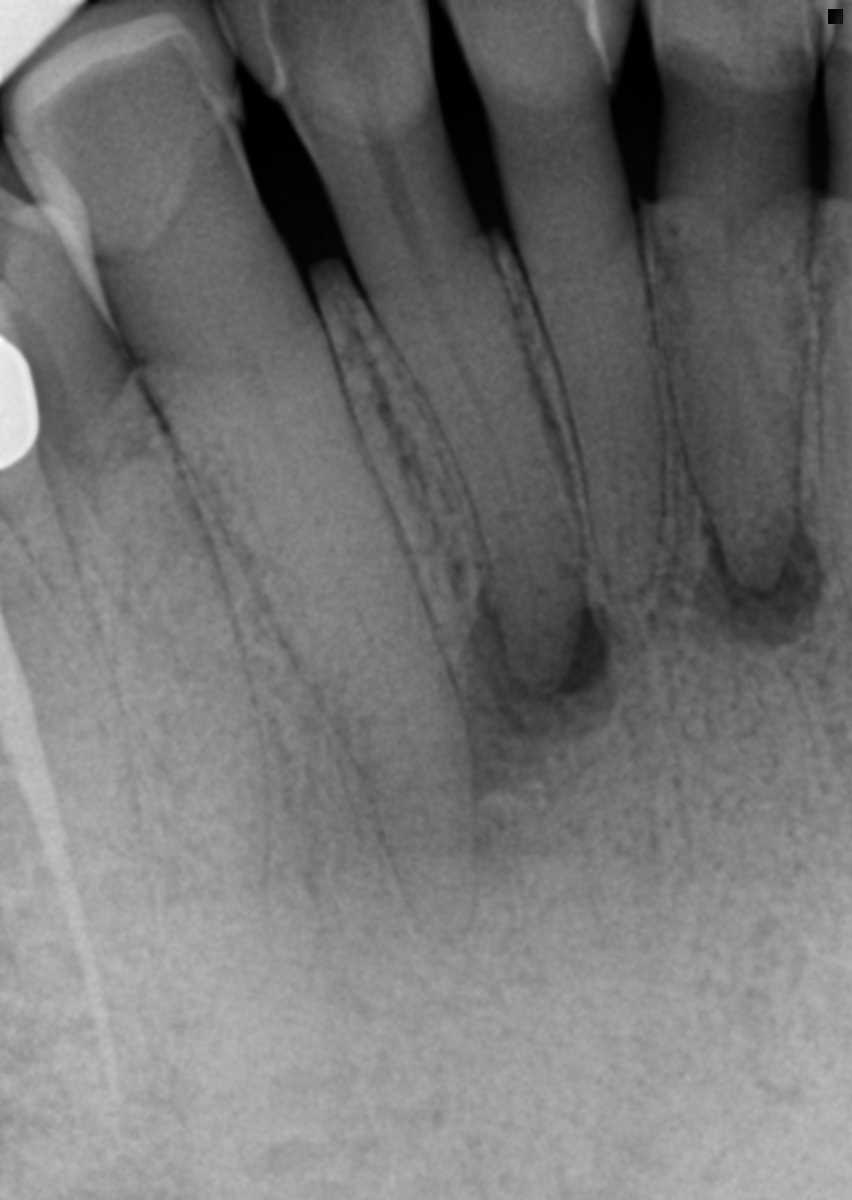Apical Lesion: (459, 604, 625, 755), (689, 534, 825, 657)
Main Canal: (226, 323, 385, 671), (415, 250, 541, 620)
Main Root: (165, 294, 477, 945), (0, 394, 268, 1002), (372, 234, 580, 700), (0, 457, 149, 1079), (658, 185, 820, 597), (526, 210, 663, 597)
Root Canal Filling: (0, 628, 121, 1085)
